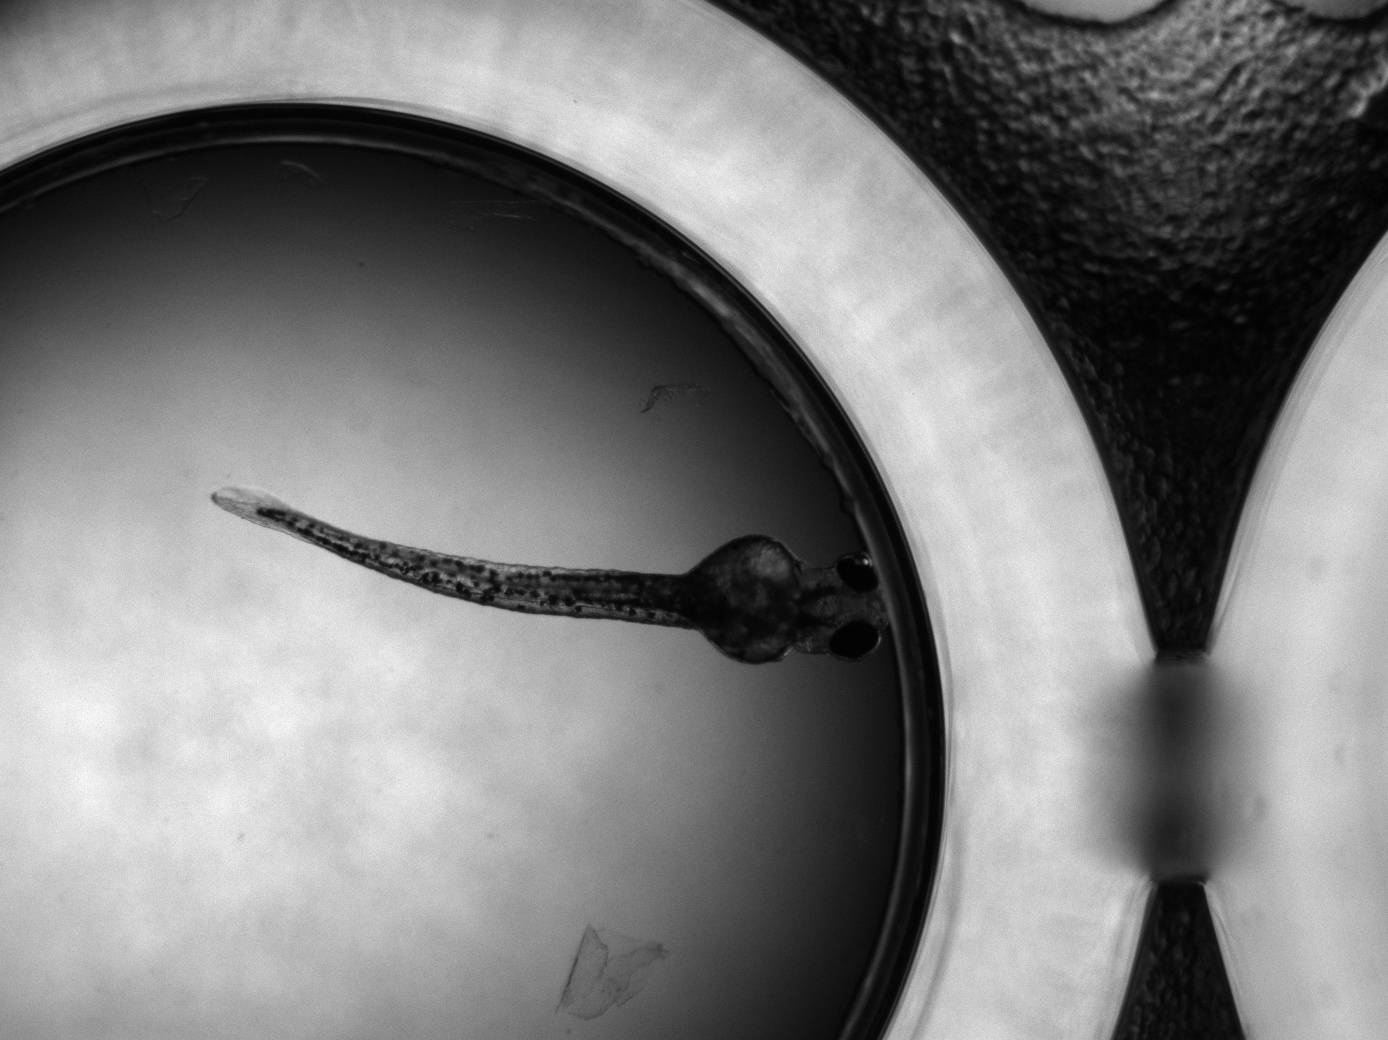debris: (556, 921, 675, 1025)
embryo: (211, 486, 895, 667)
eye: (834, 552, 881, 595), (829, 621, 879, 661)
yolksac: (683, 534, 796, 666)
